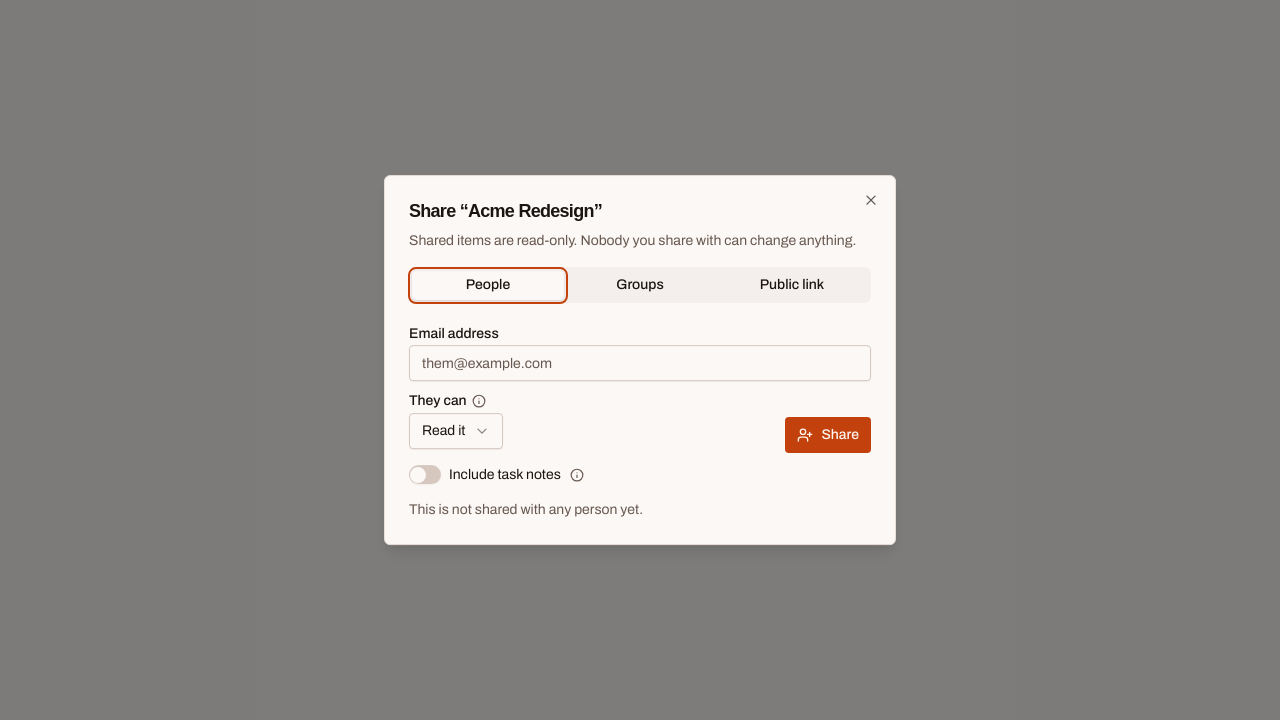
ShareDialog › Groups tab › renders an error rather than crashing when the group grants load fails
Click the tab "Groups": (640, 286) [564,271,716,300]
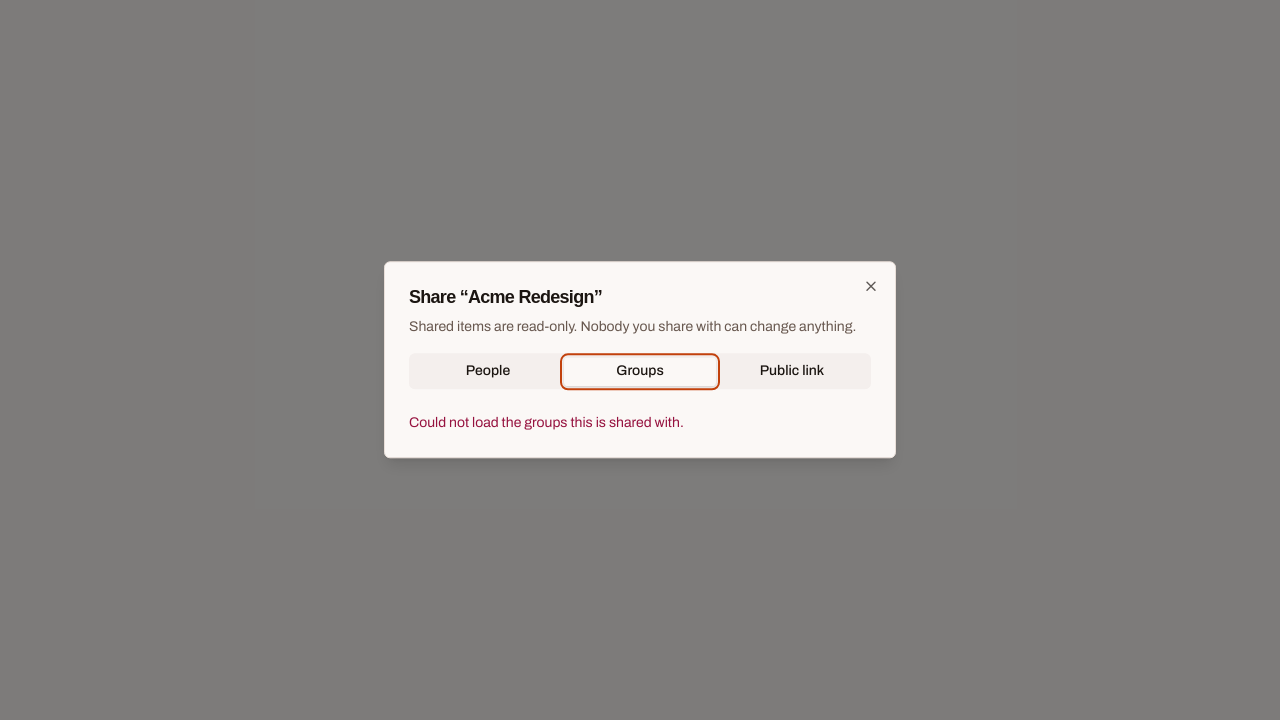
Expected: the message reads "Could not load the groups this is shared with.", [409,416,684,431]
